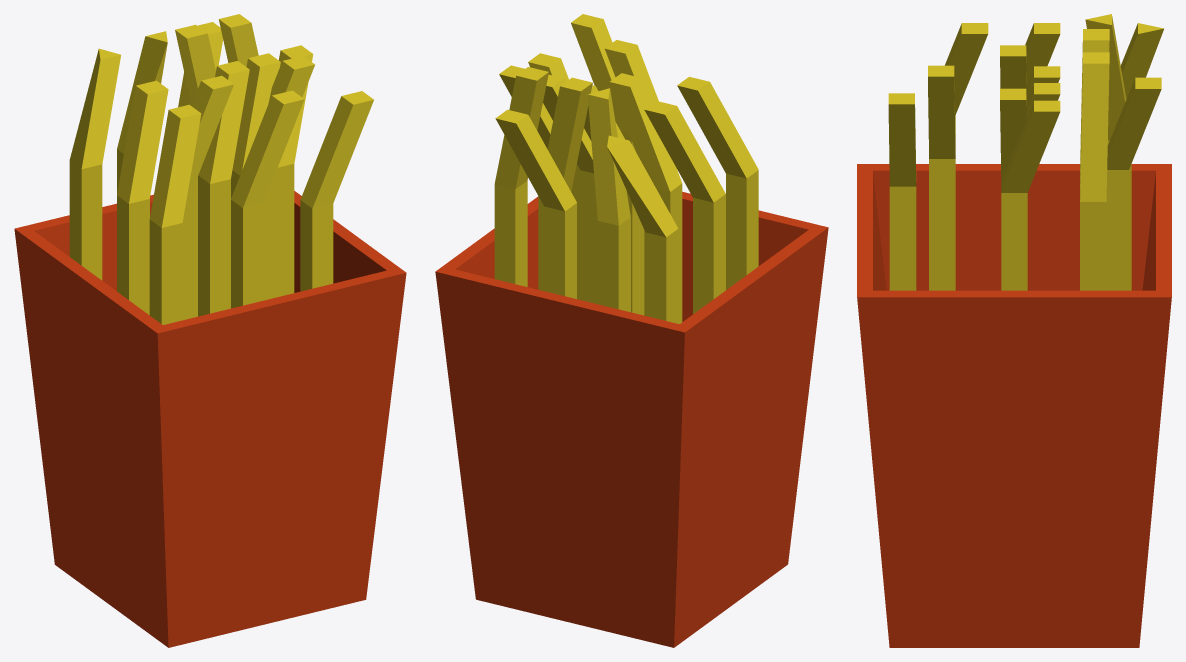
File: fries.fbx
3 renders of one model, left to right at view 1: azimuth 30°, elevation 25°; view 2: azimuth 150°, elevation 25°; view 3: azimuth 270°, elevation 25°, orthographic. The views are drawn at different scales.
Parts seen in each view (by area): view 1: Cube, Cube.003, Cube.008, Cube.004, Cube.009, Cube.005, Cube.012, Cube.014, Cube.001, Cube.002, Cube.006, Cube.013 (+3 smaller); view 2: Cube, Cube.003, Cube.004, Cube.010, Cube.011, Cube.005, Cube.007, Cube.001, Cube.013, Cube.002, Cube.012, Cube.006 (+3 smaller); view 3: Cube, Cube.007, Cube.009, Cube.011, Cube.014, Cube.012, Cube.010, Cube.004, Cube.006, Cube.005, Cube.003, Cube.001 (+3 smaller).
Part boxes in pixels (x1,y1,x2,y2): Cube: [14, 191, 406, 647]; Cube.003: [117, 80, 168, 314]; Cube.008: [198, 61, 249, 316]; Cube.004: [149, 104, 201, 324]; Cube.009: [231, 90, 304, 308]; Cube.005: [69, 48, 120, 280]; Cube.012: [300, 91, 373, 291]; Cube.014: [273, 45, 313, 297]; Cube.001: [182, 75, 233, 320]; Cube.002: [231, 53, 280, 198]; Cube.006: [263, 56, 314, 300]; Cube.013: [175, 24, 215, 104]; Cube: [435, 192, 828, 647]; Cube.003: [644, 101, 725, 313]; Cube.004: [677, 76, 758, 289]; Cube.010: [587, 88, 630, 312]; Cube.011: [495, 109, 576, 298]; Cube.005: [607, 135, 678, 323]; Cube.007: [494, 67, 548, 286]; Cube.001: [609, 73, 682, 323]; Cube.013: [538, 77, 592, 290]; Cube.002: [543, 74, 597, 304]; Cube.012: [571, 14, 635, 151]; Cube.006: [528, 53, 588, 299]; Cube: [857, 164, 1171, 647]; Cube.007: [1080, 52, 1109, 290]; Cube.009: [928, 65, 955, 290]; Cube.011: [1106, 77, 1161, 290]; Cube.014: [1001, 100, 1060, 290]; Cube.012: [888, 93, 916, 290]; Cube.010: [1085, 14, 1131, 290]; Cube.004: [945, 23, 988, 143]; Cube.006: [1000, 88, 1026, 181]; Cube.005: [1121, 23, 1163, 98]; Cube.003: [1025, 23, 1060, 82]; Cube.001: [1000, 45, 1026, 88].
Size of the model in its own units: 367 by 731 by 366.
